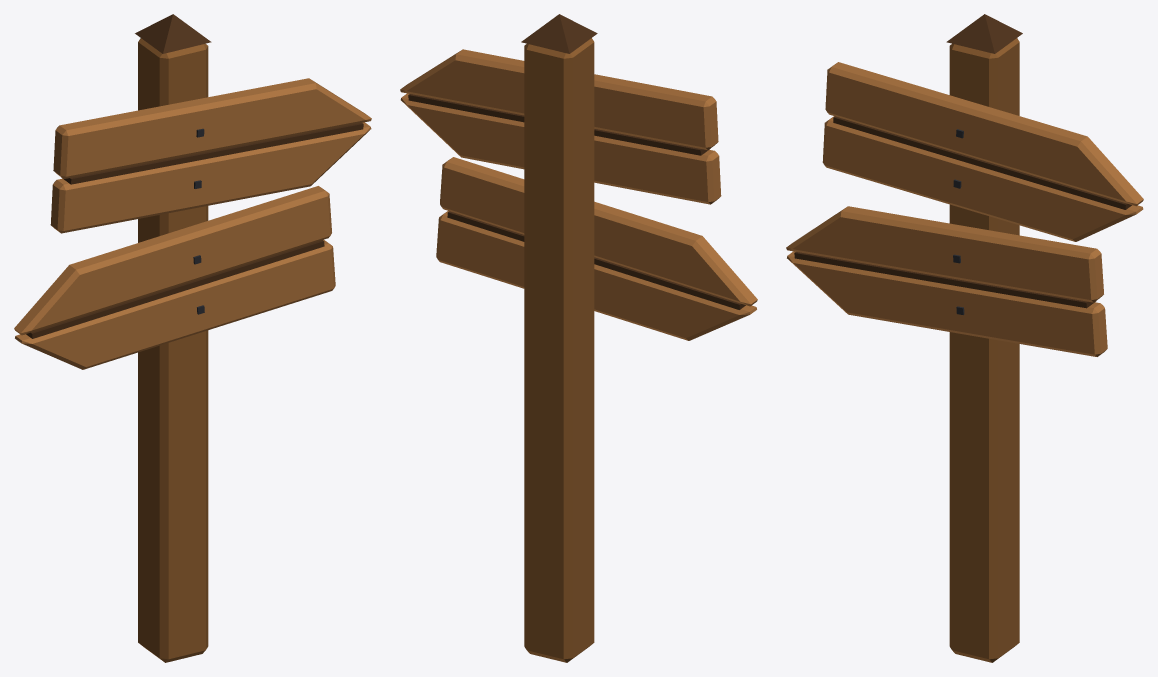
File: Prop_Signpost.fbx
The picture shows the model from 3 angles, left to right: view 1: azimuth 30°, elevation 25°; view 2: azimuth 150°, elevation 25°; view 3: azimuth 330°, elevation 25°; orthographic projection.
Visible parts, largest first — view 1: Prop_Signpost; view 2: Prop_Signpost; view 3: Prop_Signpost.
Boxes of the visible parts, box(x1,y1,x2,y2) form: Prop_Signpost: box(14, 14, 371, 662); Prop_Signpost: box(400, 14, 757, 662); Prop_Signpost: box(786, 14, 1143, 662).
Bounding box in the file's own units: 1.08 × 1.87 × 0.216.
